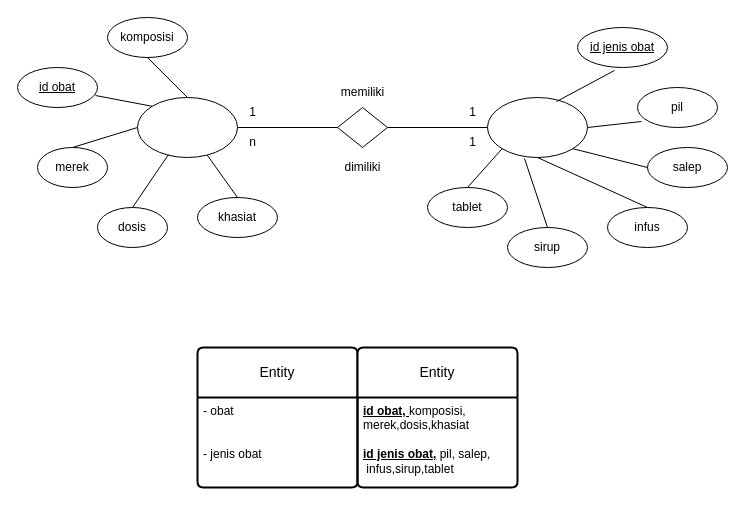
This 745x506 diagram has some shape labels left out. The centre of each missing label's shape, as x and y in pixels:
jenis obat: the point at 537,127
obat: the point at 187,127
